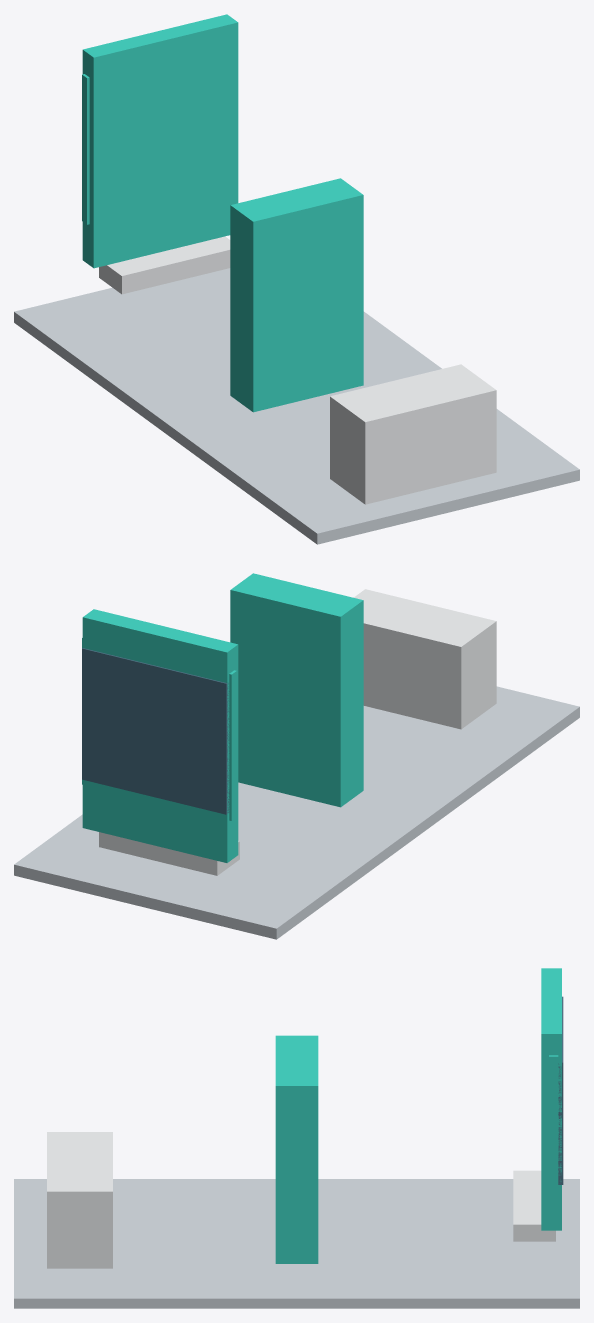
3 views of the same model, one above another, from view 1: azimuth 30°, elevation 25°; view 2: azimuth 150°, elevation 25°; view 3: azimuth 270°, elevation 25° (orthographic). The views are drawn at different scales.
Parts seen in each view (by area): view 1: Exhibition Booth Concept; view 2: Exhibition Booth Concept; view 3: Exhibition Booth Concept.
Boxes of the visible parts, x1,y1,x2,y2 form: Exhibition Booth Concept: [14, 14, 579, 544]; Exhibition Booth Concept: [14, 573, 579, 939]; Exhibition Booth Concept: [14, 968, 579, 1308].
Size of the model in its own units: 3 by 2.9 by 6.
